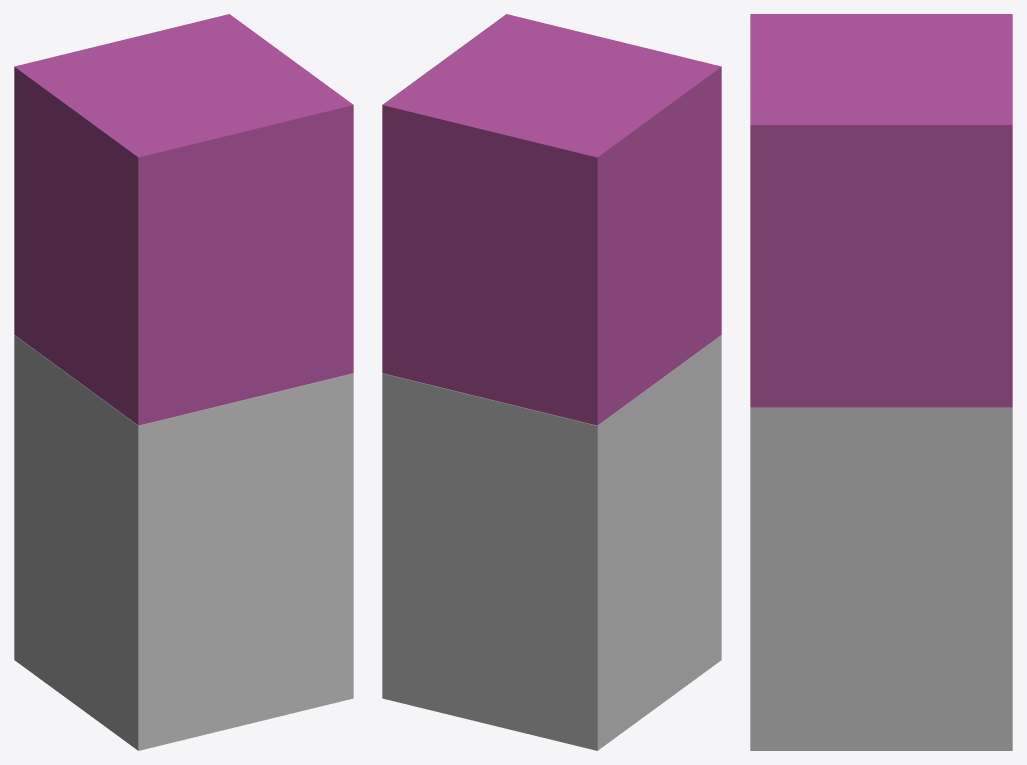
The model's file is Floor Display Case 1.fbx.
The picture shows the model from 3 angles, left to right: view 1: azimuth 30°, elevation 25°; view 2: azimuth 150°, elevation 25°; view 3: azimuth 270°, elevation 25°; orthographic projection. The views are drawn at different scales.
Visible parts, largest first — view 1: Glass, Display; view 2: Glass, Display; view 3: Glass, Display.
Part boxes in pixels (x1=…): Glass: x1=14, y1=14, x2=353, y2=425; Display: x1=14, y1=335, x2=353, y2=750; Glass: x1=382, y1=14, x2=721, y2=425; Display: x1=382, y1=335, x2=721, y2=750; Glass: x1=750, y1=14, x2=1012, y2=407; Display: x1=750, y1=407, x2=1012, y2=750.
Bounding box in the file's own units: 65 × 171 × 65.
